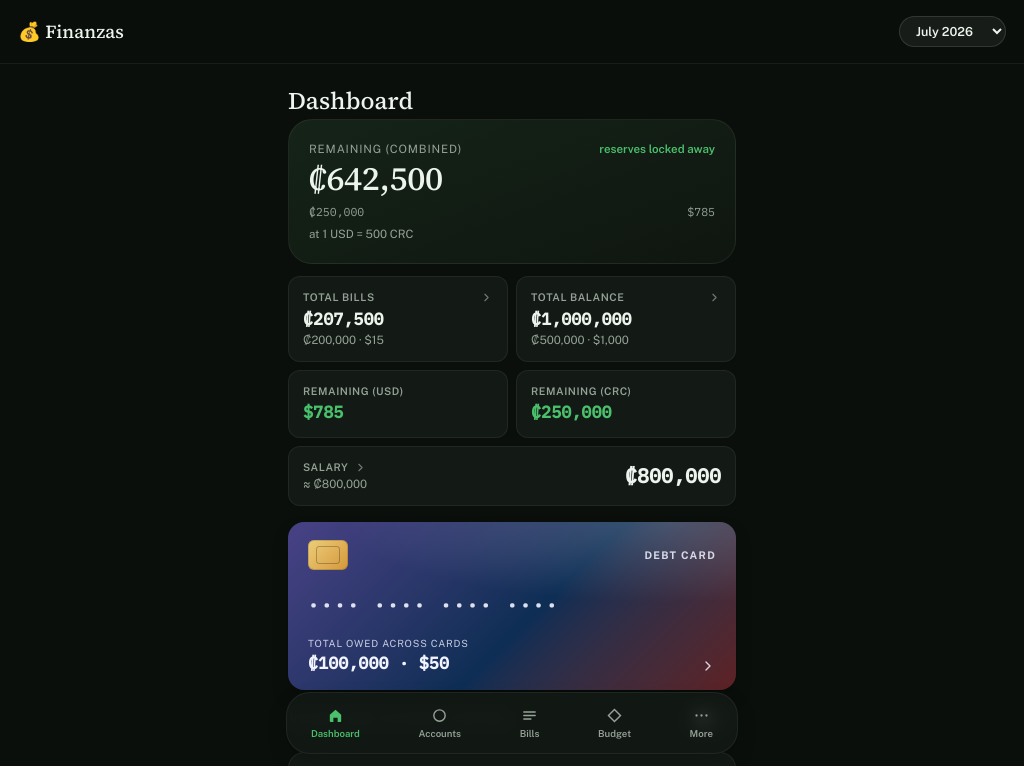
Test: Budget — with data › shows the salary and per-slice amounts
The image size is (1024, 766).
Click the button "Budget" at point(615, 723), box [592,703,637,743]
(page scrolled)
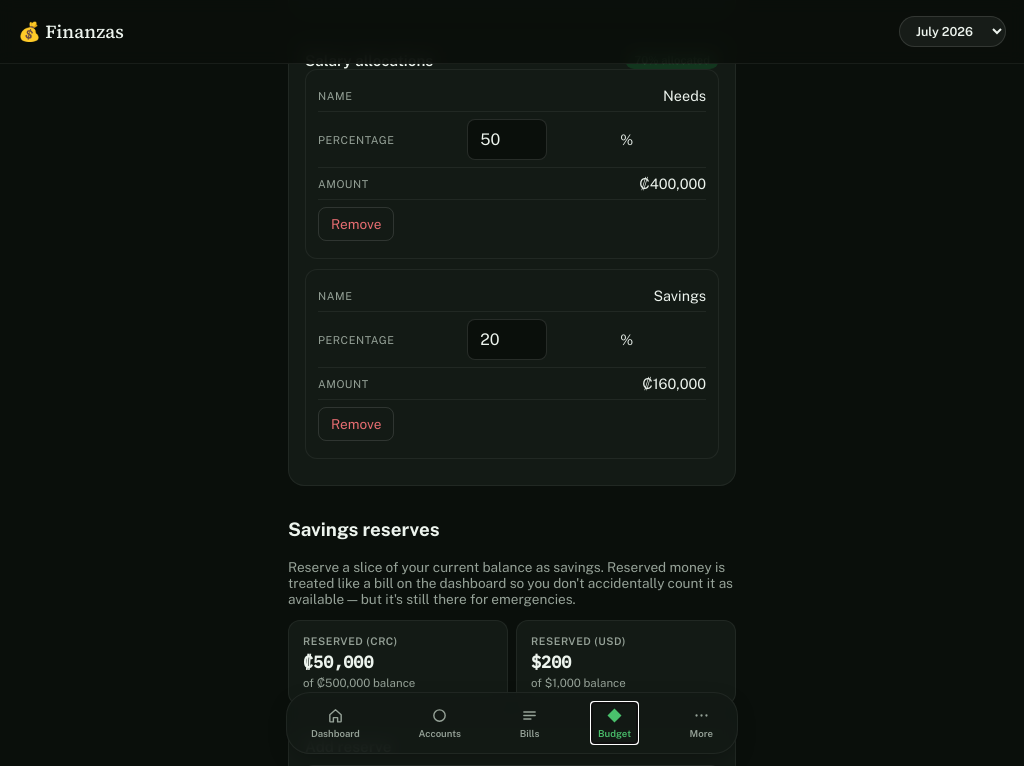
Now the text "Needs" is shown, box [318,80,706,112]
